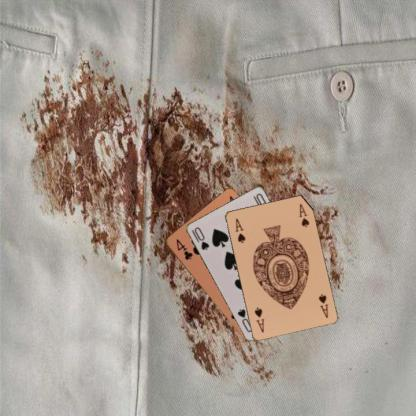10s: (188, 224, 210, 252)
4c: (173, 236, 194, 261)
As: (232, 216, 247, 245), (315, 291, 329, 319)
